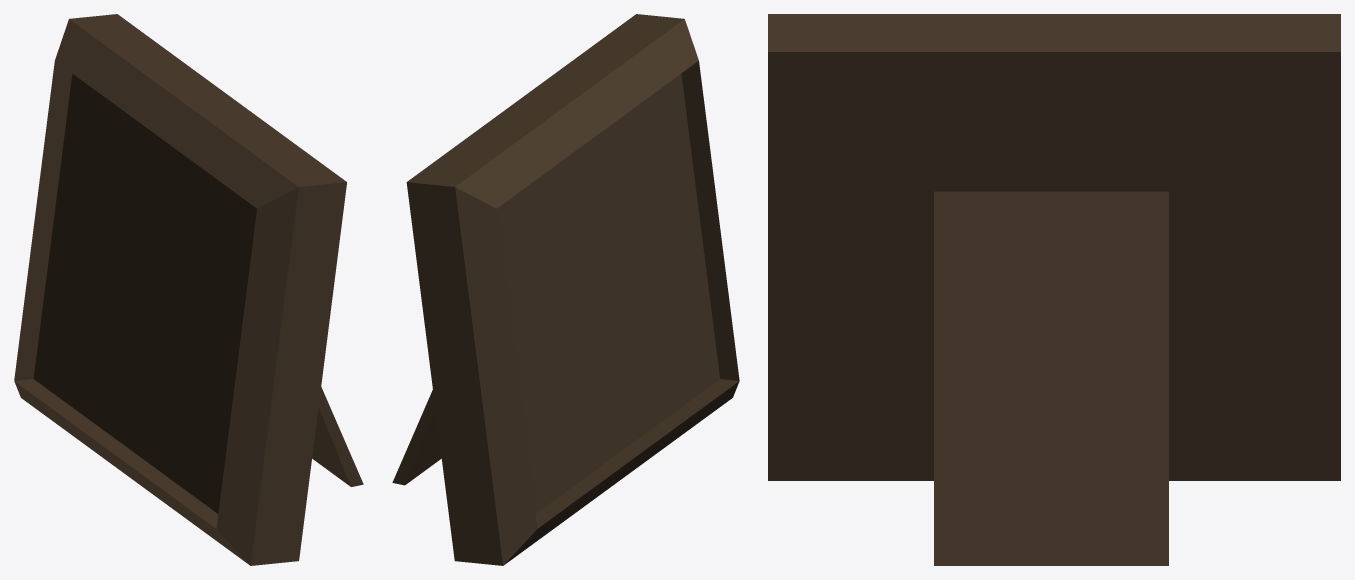
The model's file is pictureFrame.fbx.
3 renders of one model, left to right at view 1: azimuth 30°, elevation 25°; view 2: azimuth 150°, elevation 25°; view 3: azimuth 270°, elevation 25°, orthographic. The views are drawn at different scales.
Visible parts, largest first — view 1: photoFrame; view 2: photoFrame; view 3: photoFrame.
Boxes of the visible parts, bbox=[...] form: photoFrame: bbox=[14, 14, 363, 565]; photoFrame: bbox=[392, 14, 739, 565]; photoFrame: bbox=[768, 14, 1340, 565].
Bounding box in the file's own units: 0.5651 × 1.02 × 1.12.
